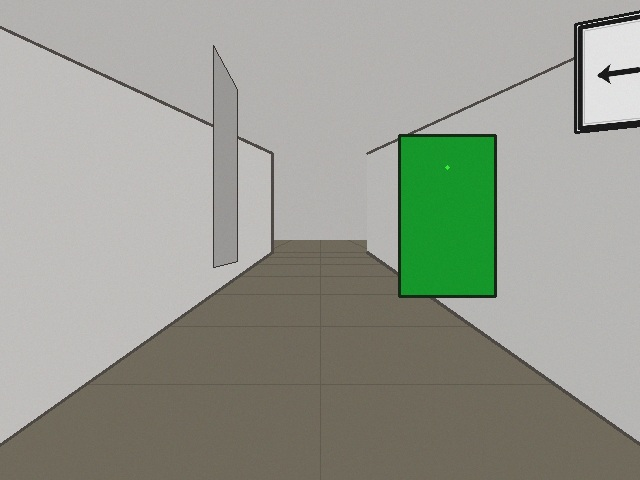charging_station: (399, 135, 495, 296)
directional_sign: (575, 0, 639, 132)
